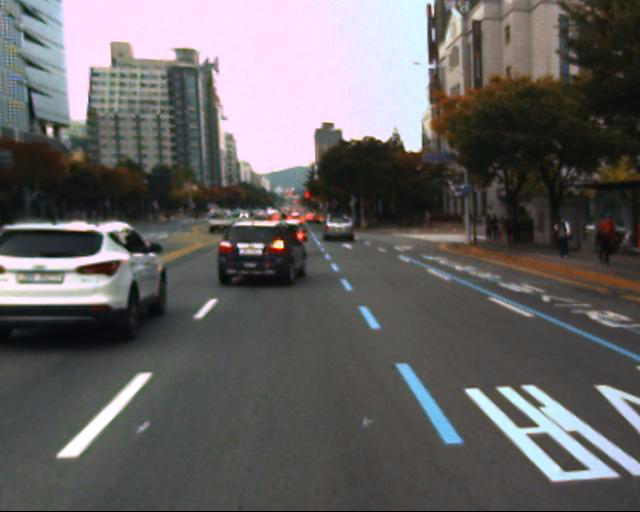person: (591, 207, 622, 275), (550, 210, 579, 264)
